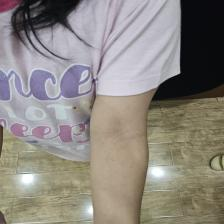DA: (91, 108, 151, 174)
